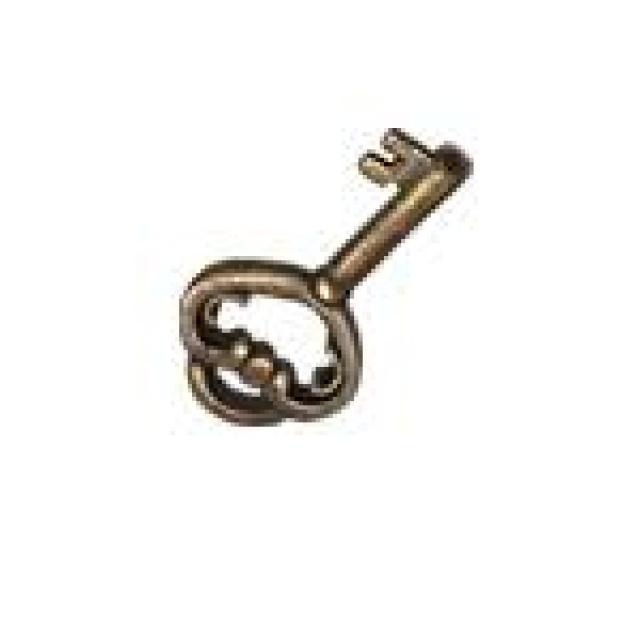key: (160, 128, 517, 450)
